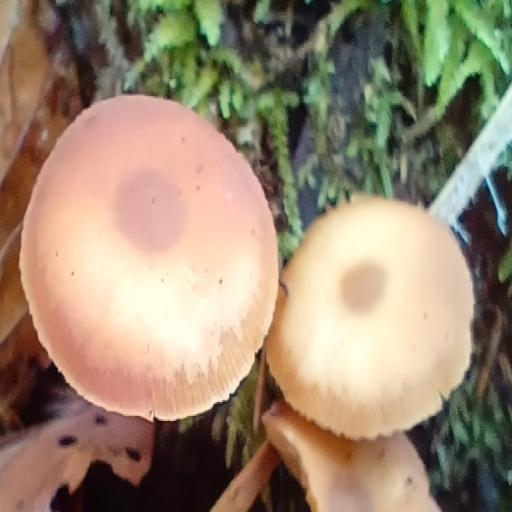mushroom: (0, 66, 331, 452), (0, 0, 1, 1)
